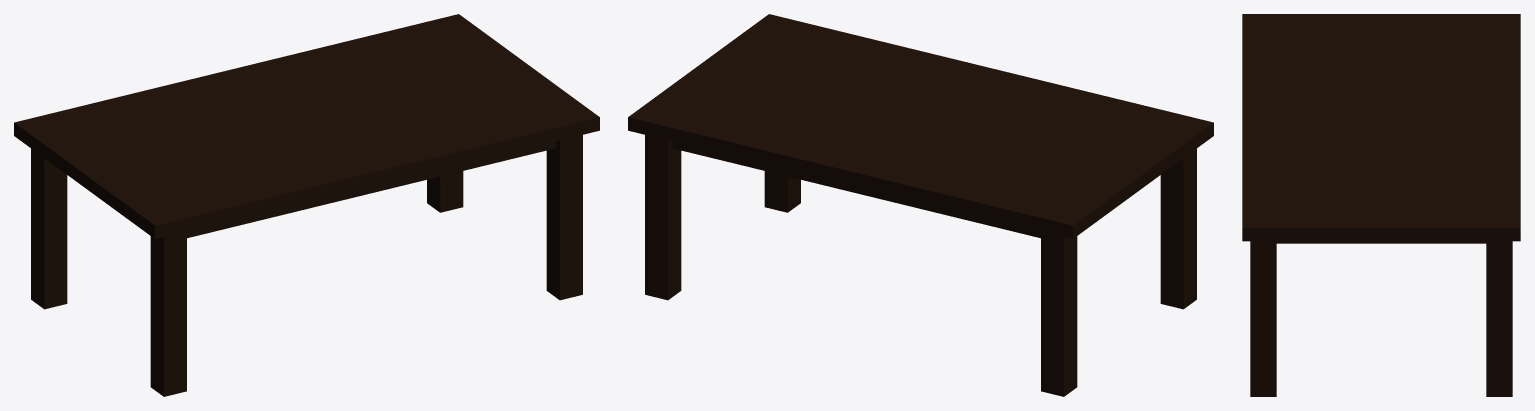
Rendered from Table.FBX.
The picture shows the model from 3 angles, left to right: view 1: azimuth 30°, elevation 25°; view 2: azimuth 150°, elevation 25°; view 3: azimuth 270°, elevation 25°; orthographic projection.
Visible parts, largest first — view 1: Table; view 2: Table; view 3: Table.
Boxes of the visible parts, <box> form: Table: <box>14,14,599,396</box>; Table: <box>628,14,1213,396</box>; Table: <box>1242,14,1520,396</box>.
Size of the model in its own units: 89.04 by 33.93 by 48.88.
